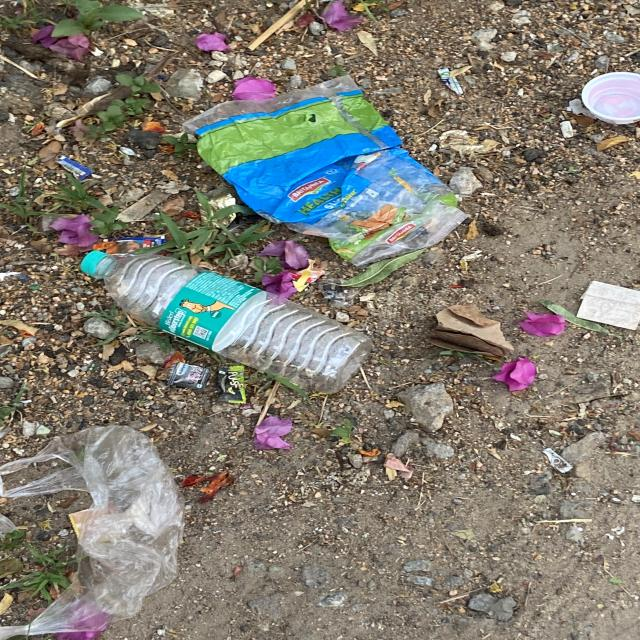chai_nhua: (80, 251, 372, 394)
giay_goi: (182, 75, 468, 265), (166, 363, 209, 392), (215, 366, 246, 404)
hop_nhua: (582, 71, 640, 124)
nhua: (0, 426, 182, 640)
